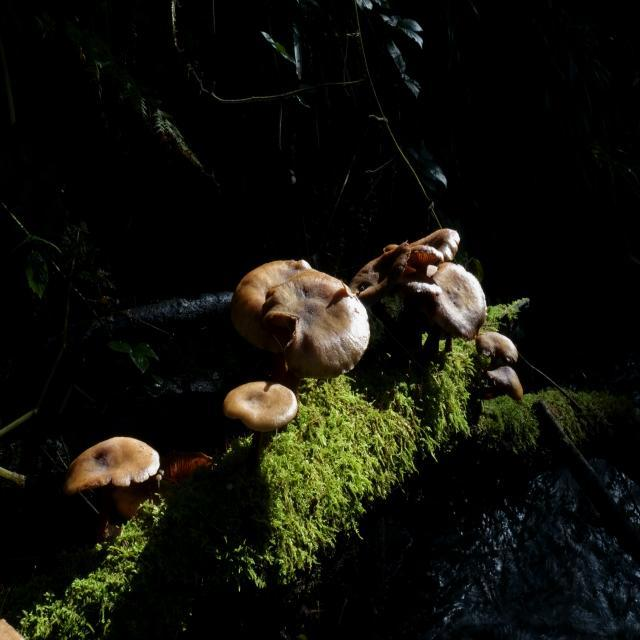Armillaria mellea: (353, 227, 525, 412), (238, 260, 369, 384), (62, 429, 164, 524), (221, 374, 298, 446)
